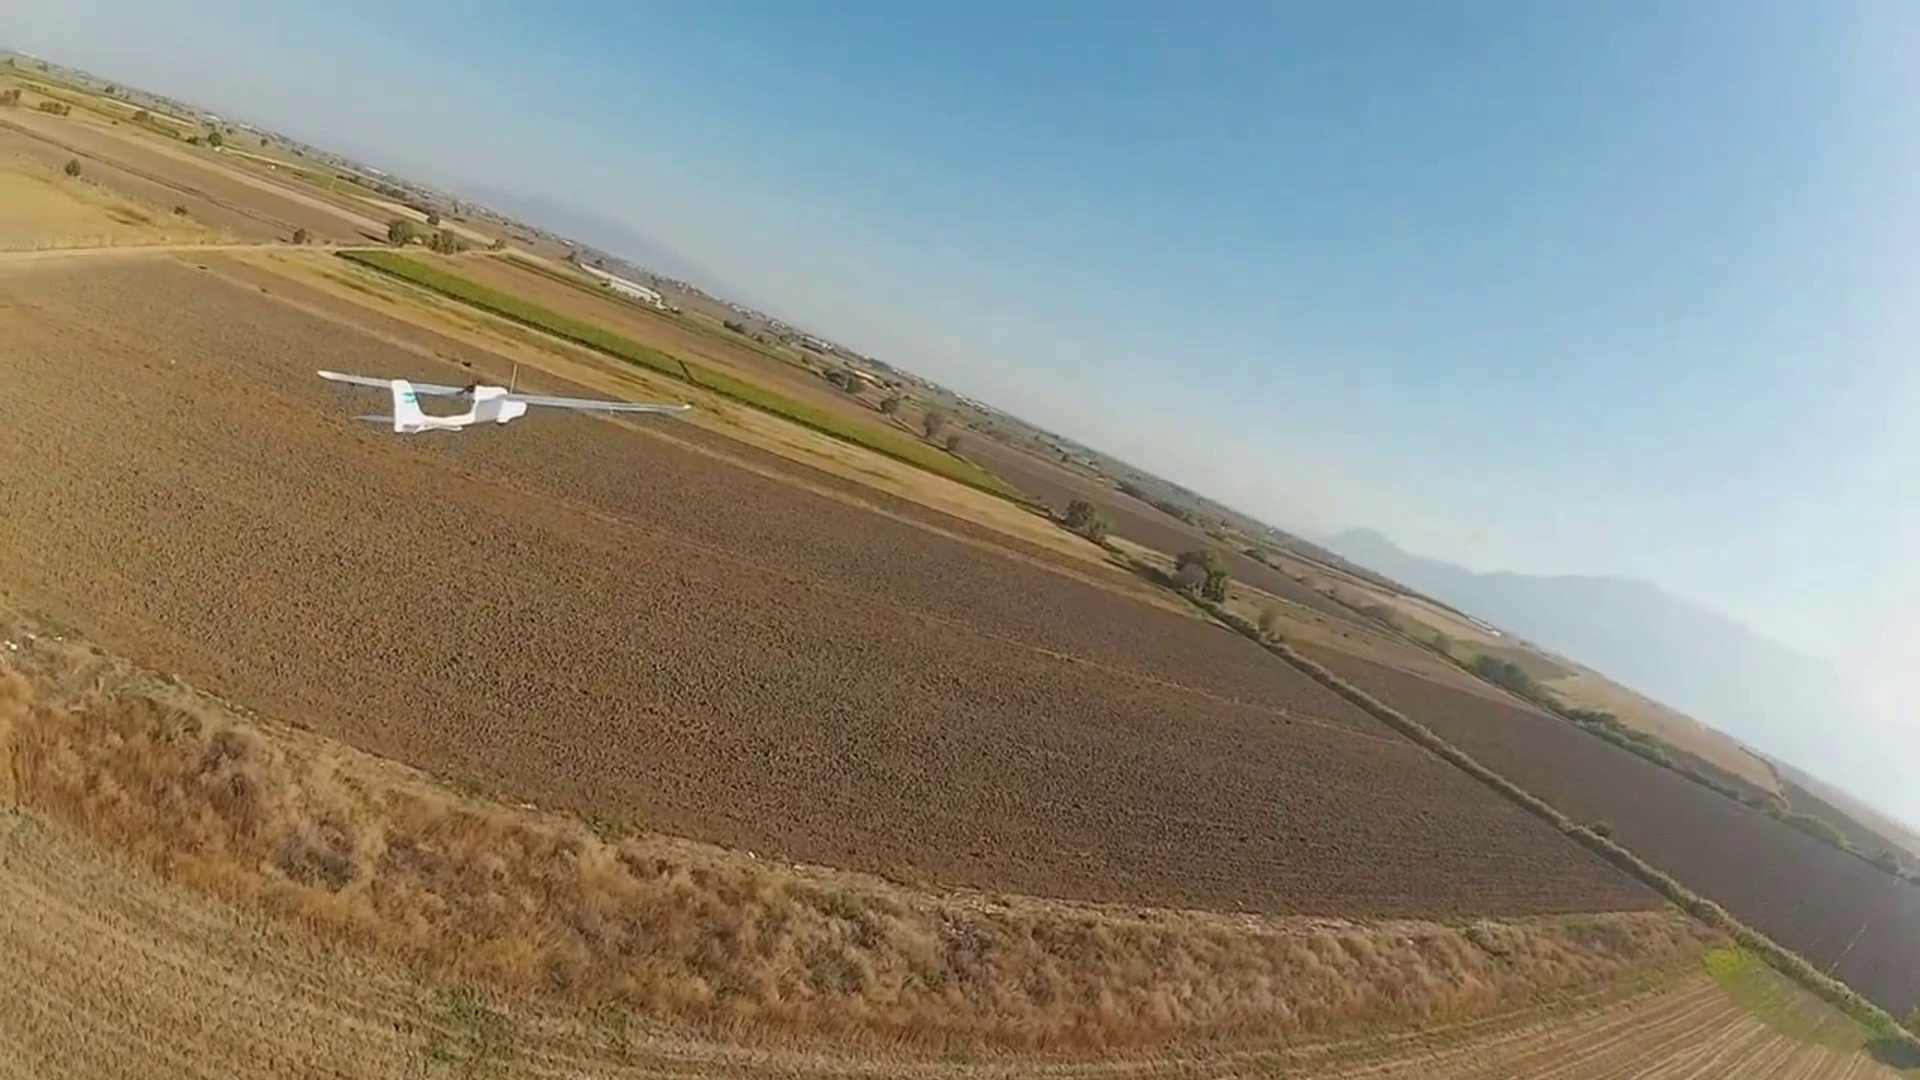airplane: (313, 369, 531, 431)
